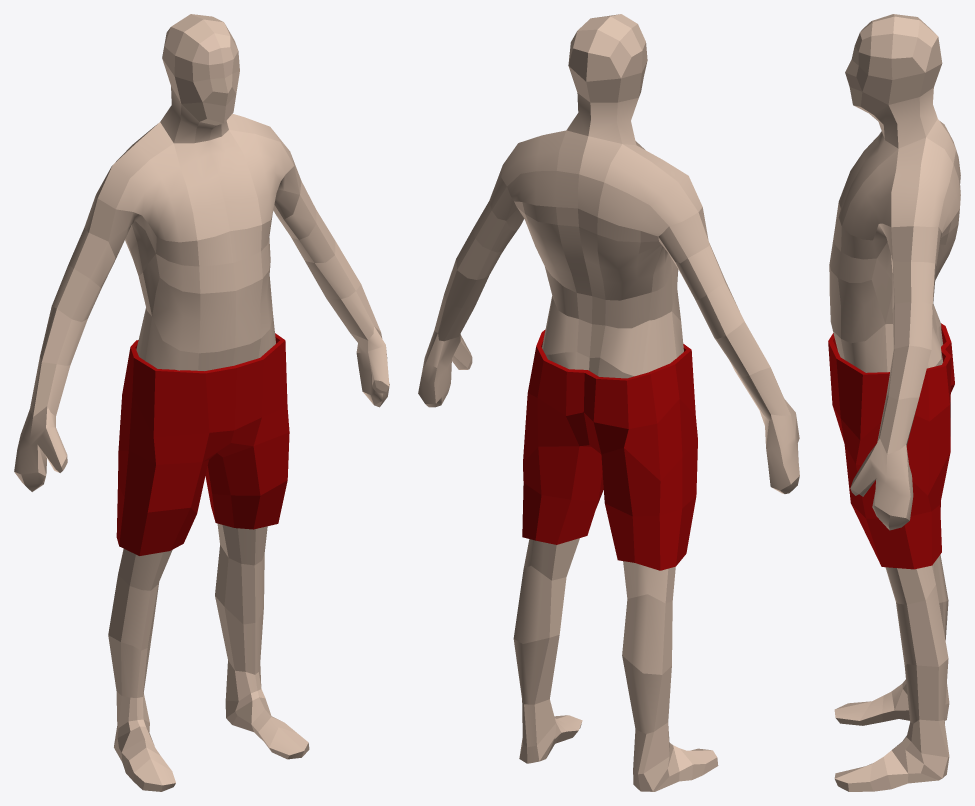
The model's file is baigneur homme le vrai.fbx.
The picture shows the model from 3 angles, left to right: view 1: azimuth 30°, elevation 25°; view 2: azimuth 150°, elevation 25°; view 3: azimuth 270°, elevation 25°; orthographic projection.
Visible parts, largest first — view 1: baigneur_homme; view 2: baigneur_homme; view 3: baigneur_homme.
Boxes of the visible parts, bbox=[...] form: baigneur_homme: bbox=[14, 14, 389, 791]; baigneur_homme: bbox=[418, 14, 799, 791]; baigneur_homme: bbox=[828, 14, 960, 791].
Bounding box in the file's own units: 95.61 × 182 × 29.77.
